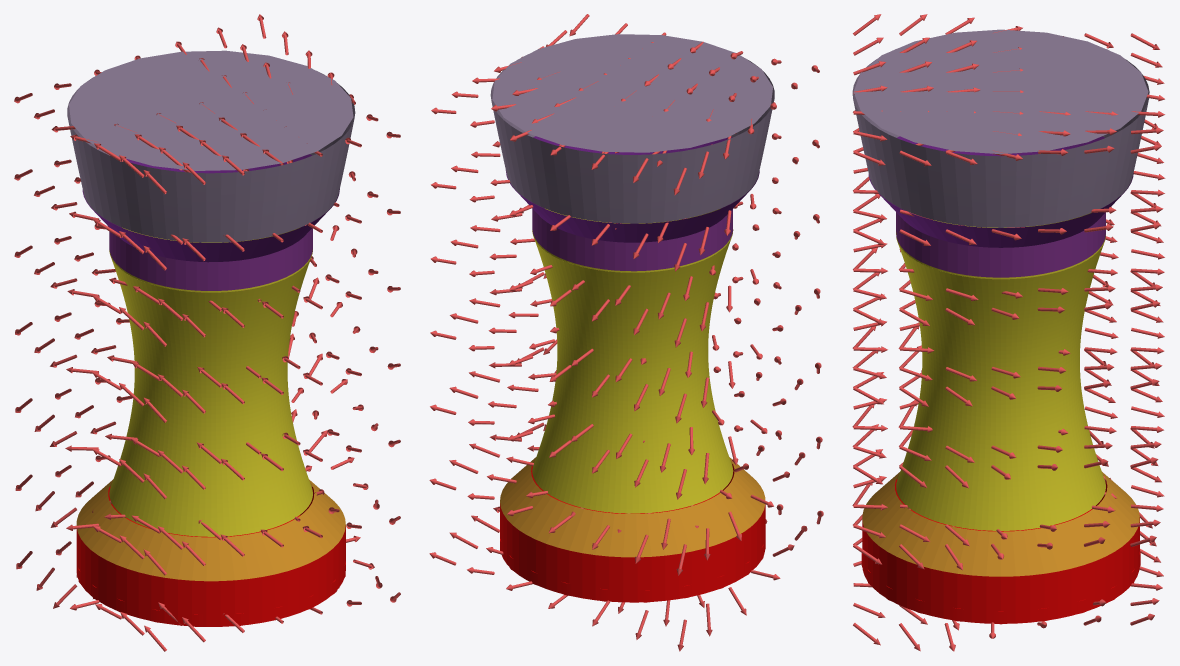
The model's file is ambos.fbx.
3 views of the same model, side by side, from view 1: azimuth 30°, elevation 25°; view 2: azimuth 150°, elevation 25°; view 3: azimuth 270°, elevation 25° (orthographic). The views are drawn at different scales.
Parts seen in each view (by area): view 1: torre:object, pCylinder1, campo_vectorial_flechas:campo_vectorial, pasted__pCylinder1; view 2: torre:object, pCylinder1, campo_vectorial_flechas:campo_vectorial, pasted__pCylinder1; view 3: torre:object, pCylinder1, campo_vectorial_flechas:campo_vectorial, pasted__pCylinder1.
Part boxes in pixels (x1,y1,x2,y2): torre:object: [67, 71, 355, 626]; pCylinder1: [69, 50, 353, 170]; campo_vectorial_flechas:campo_vectorial: [14, 14, 400, 651]; pasted__pCylinder1: [78, 515, 345, 626]; torre:object: [490, 54, 774, 602]; pCylinder1: [492, 34, 772, 152]; campo_vectorial_flechas:campo_vectorial: [429, 14, 823, 651]; pasted__pCylinder1: [500, 492, 763, 602]; torre:object: [852, 49, 1149, 623]; pCylinder1: [853, 29, 1148, 154]; campo_vectorial_flechas:campo_vectorial: [852, 14, 1165, 651]; pasted__pCylinder1: [861, 509, 1140, 624].
Size of the model in its own units: 10 by 16.35 by 9.02.
